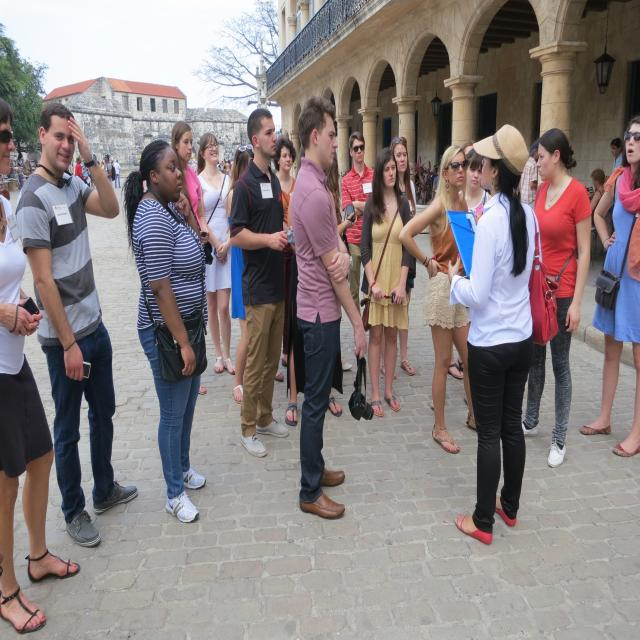body: (15, 100, 142, 549), (448, 122, 559, 547), (0, 96, 87, 633), (122, 137, 218, 525), (290, 93, 362, 521), (398, 145, 478, 455), (520, 126, 592, 468), (229, 108, 291, 458), (579, 116, 640, 460), (284, 139, 344, 428), (357, 148, 411, 419), (191, 132, 239, 376), (378, 137, 416, 380), (226, 144, 257, 405), (340, 131, 374, 352), (272, 137, 297, 384), (170, 120, 210, 247), (458, 147, 492, 228), (458, 147, 493, 225), (517, 138, 541, 212), (68, 153, 121, 186), (586, 168, 606, 230), (187, 154, 236, 176), (604, 138, 624, 184), (9, 157, 31, 194), (428, 165, 440, 202), (102, 153, 115, 187), (75, 154, 89, 182), (113, 159, 121, 188), (16, 162, 24, 188)
